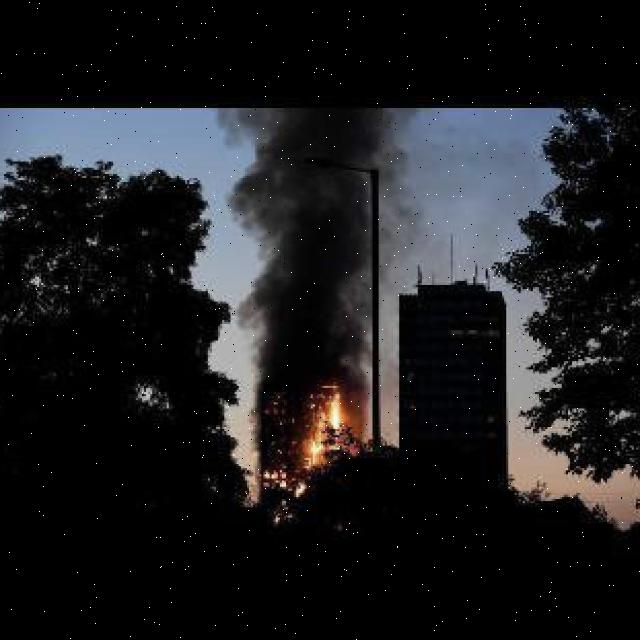fire: (305, 380, 354, 458), (257, 464, 307, 499)
smoke: (241, 112, 372, 378)
